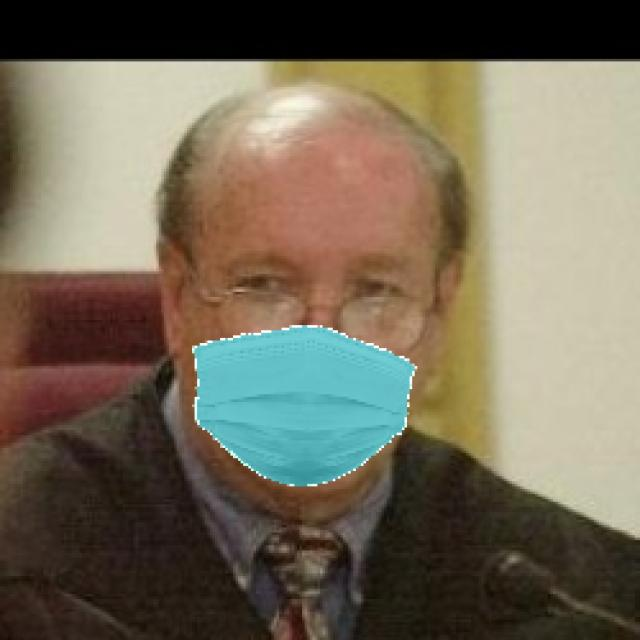mask: (176, 326, 423, 501)
